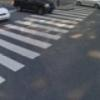crosswalks: (0, 4, 96, 85)
